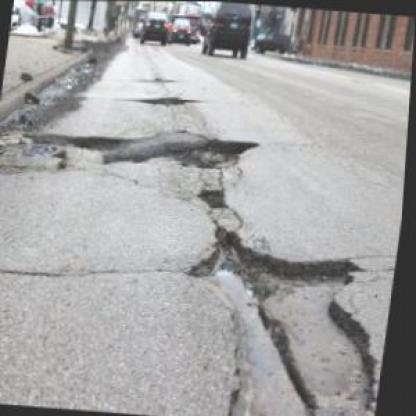pothole: (170, 220, 404, 414), (180, 132, 265, 174), (33, 126, 133, 154), (197, 184, 236, 211), (141, 91, 200, 107)
